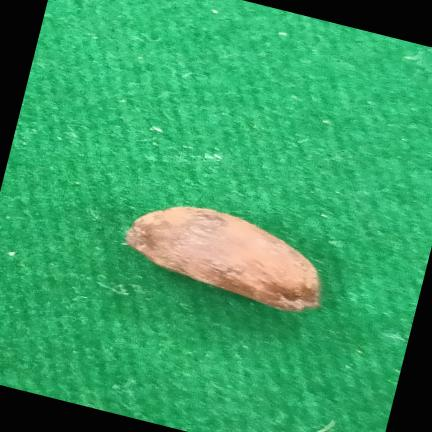husk: (126, 207, 319, 311)
